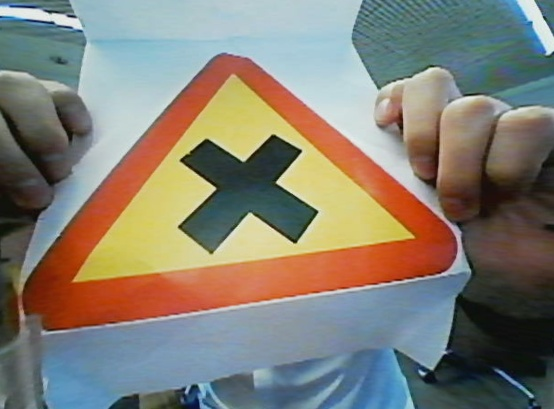junction: (29, 53, 463, 327)
